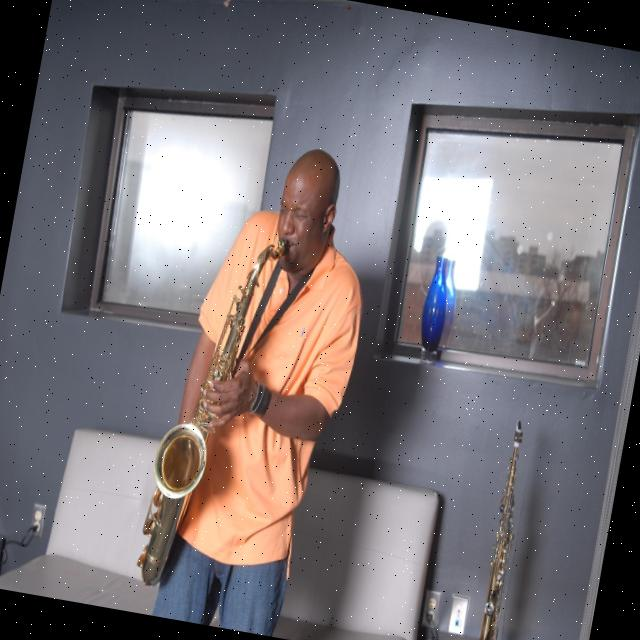saxophone: (132, 224, 294, 601)
